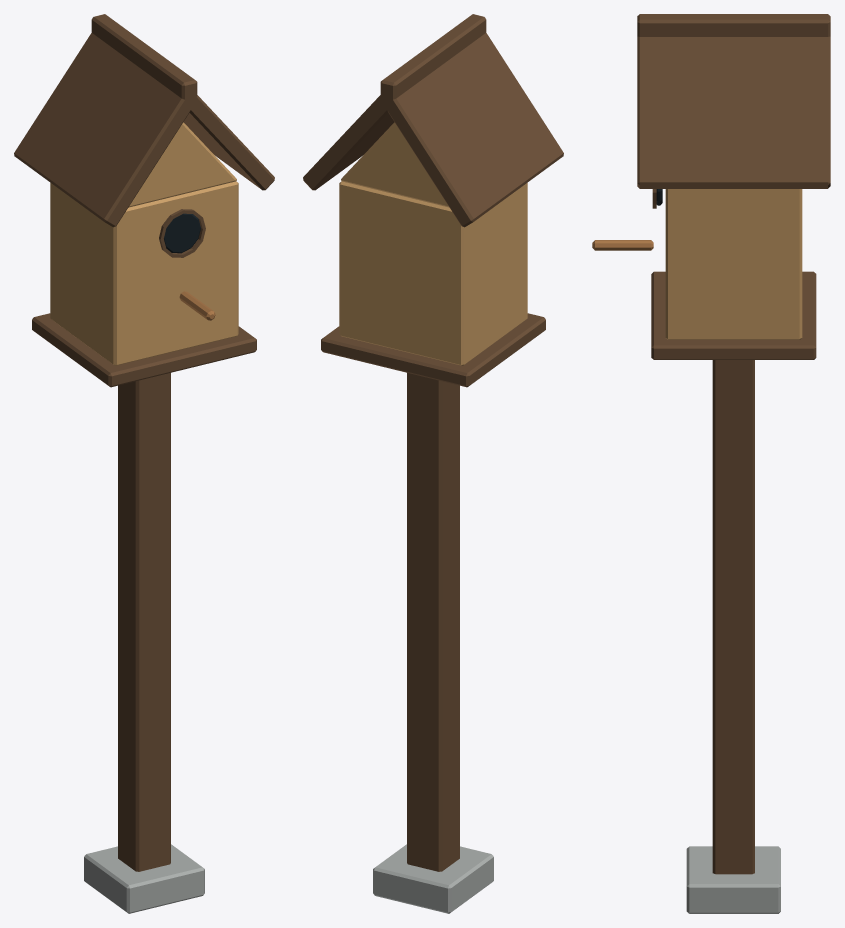
The model's file is b11_post_mounted_songbird_house.glb.
3 renders of one model, left to right at view 1: azimuth 30°, elevation 25°; view 2: azimuth 150°, elevation 25°; view 3: azimuth 270°, elevation 25°, orthographic. The views are drawn at different scales.
Visible parts, largest first — view 1: b11_post_mounted_songbird_house; view 2: b11_post_mounted_songbird_house; view 3: b11_post_mounted_songbird_house.
Boxes of the visible parts, box(x1,y1,x2,y2) form: b11_post_mounted_songbird_house: box(14, 14, 274, 913); b11_post_mounted_songbird_house: box(303, 14, 563, 913); b11_post_mounted_songbird_house: box(592, 14, 830, 913).
Bounding box in the file's own units: 0.4368 × 2.05 × 0.505.
